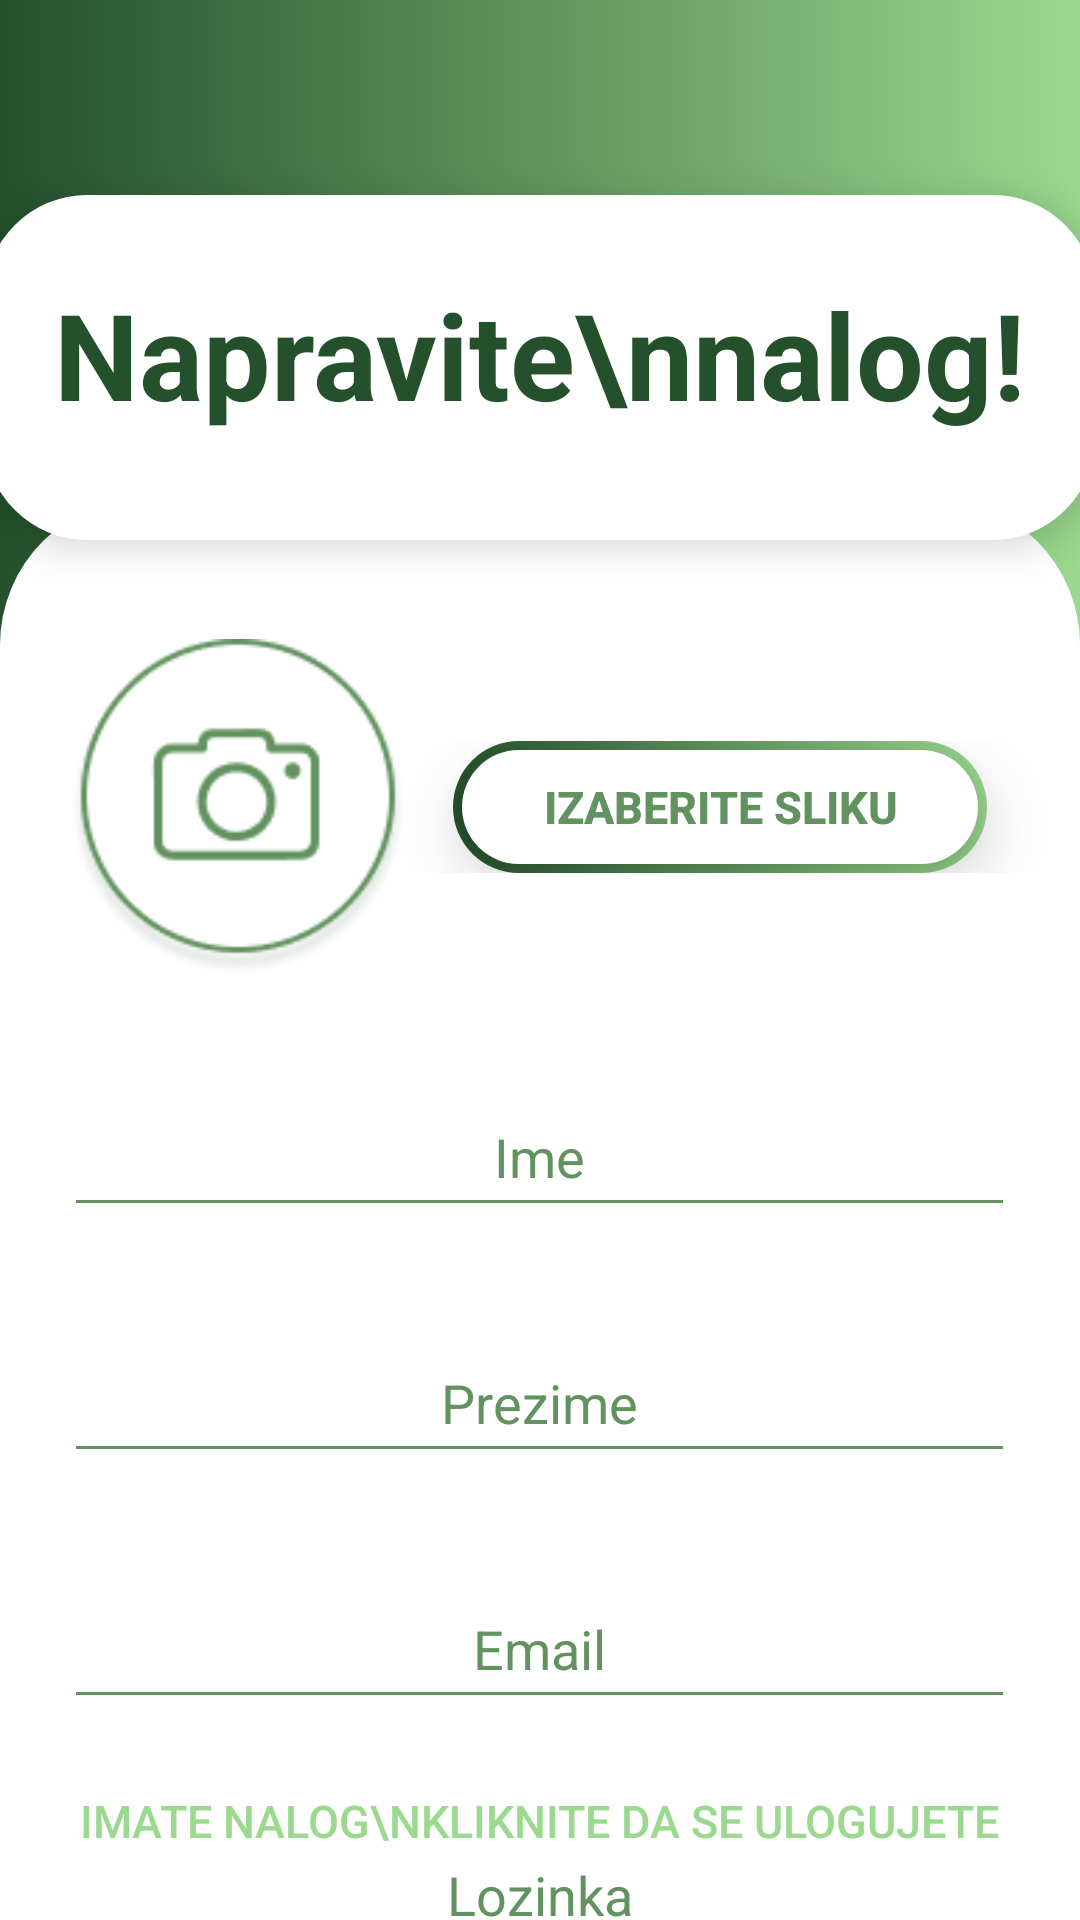

Screen size 1080*1920. Icon name, then its center in pixels as [x,y]:
kamera: [238,796]
